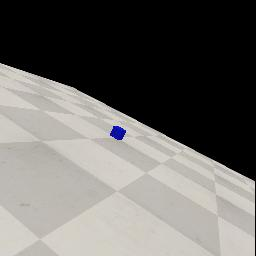box: (110, 126, 126, 140)
